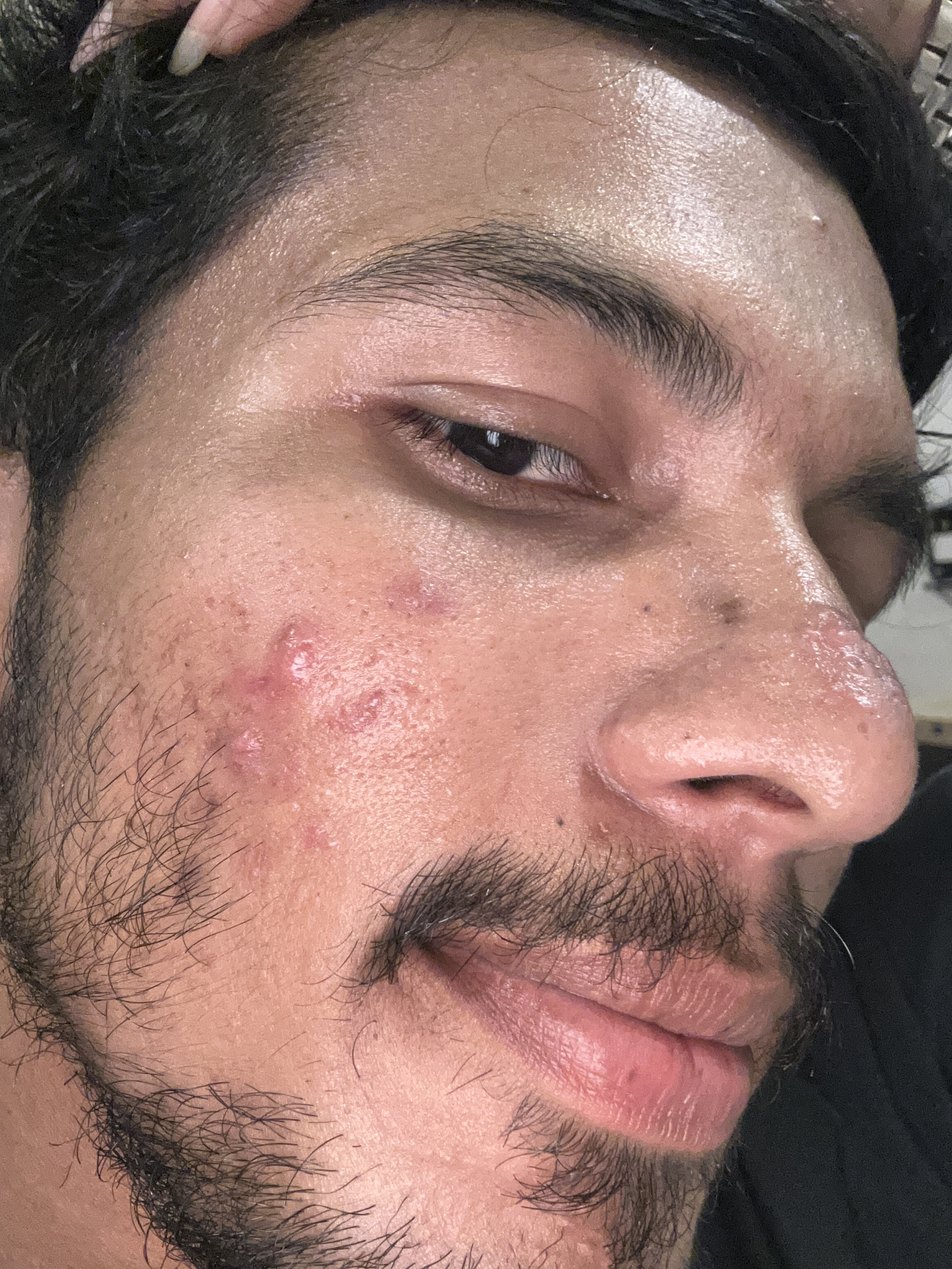nodule: (267, 625, 324, 684), (213, 725, 274, 775)
papule: (558, 1234, 601, 1259)
pustule: (798, 197, 837, 241)
